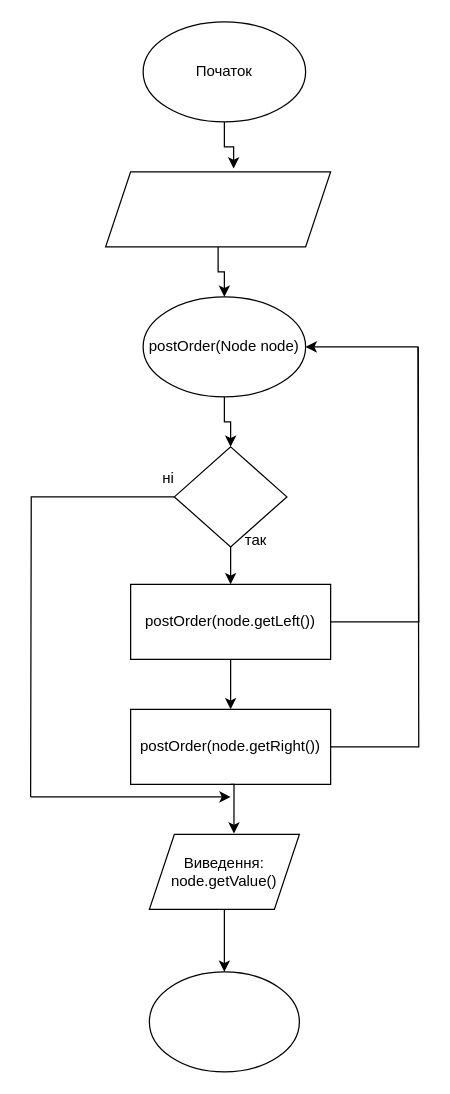
This 450x1094 diagram has some shape labels left out. Each missing label, with the box of its shape:
node!=null: (173, 446, 287, 547)
Введення: parent node/internal node: (104, 171, 331, 247)
Кінець: (148, 971, 299, 1072)
